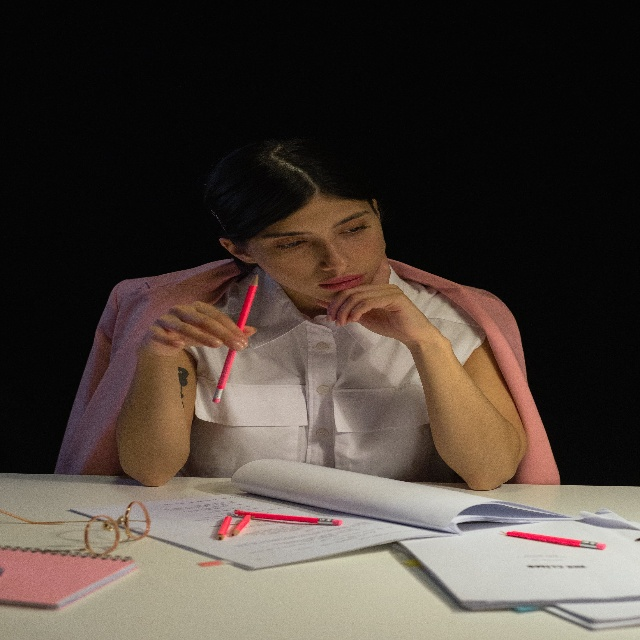Gafas: (0, 502, 152, 556)
Sin_guantes: (325, 255, 438, 346), (144, 299, 255, 361)
